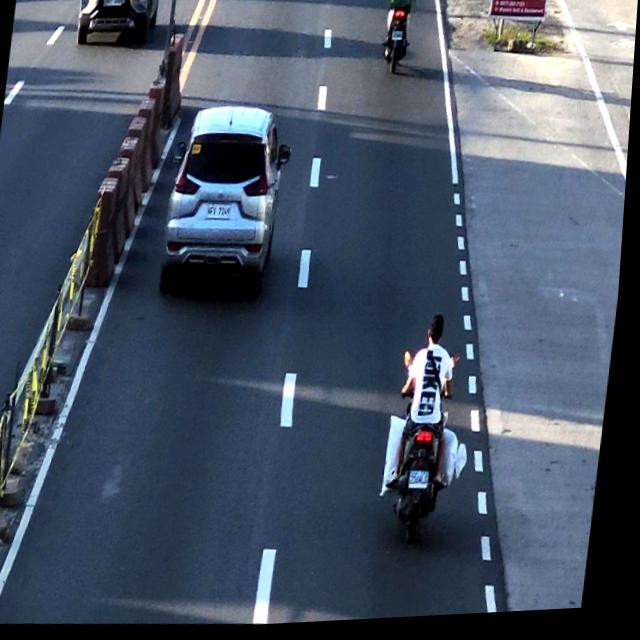Car: (161, 107, 292, 301), (382, 319, 478, 551), (381, 0, 419, 78)
License-Plate: (411, 472, 438, 499), (205, 203, 236, 225), (390, 32, 406, 46)
